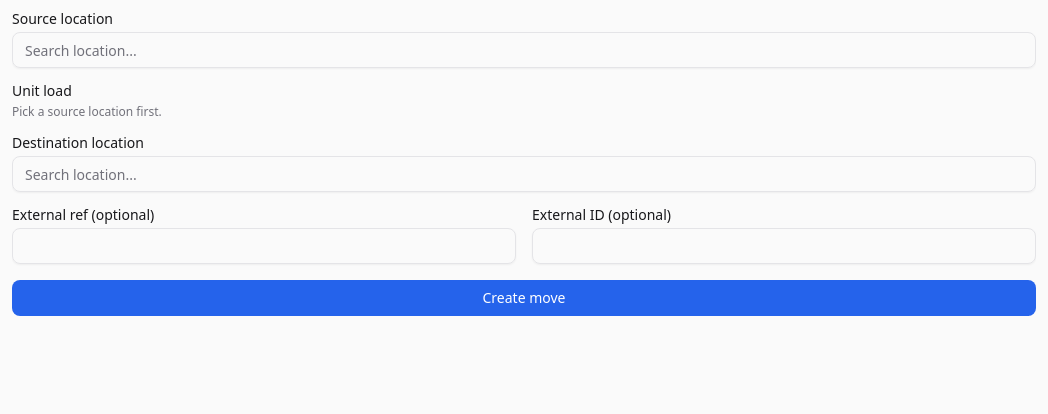
Test: ManualMoveForm › validates that source, unit load, and destination are all required
Click the button with test id "manual-move-submit" at (524, 298), box [12,280,1036,316]
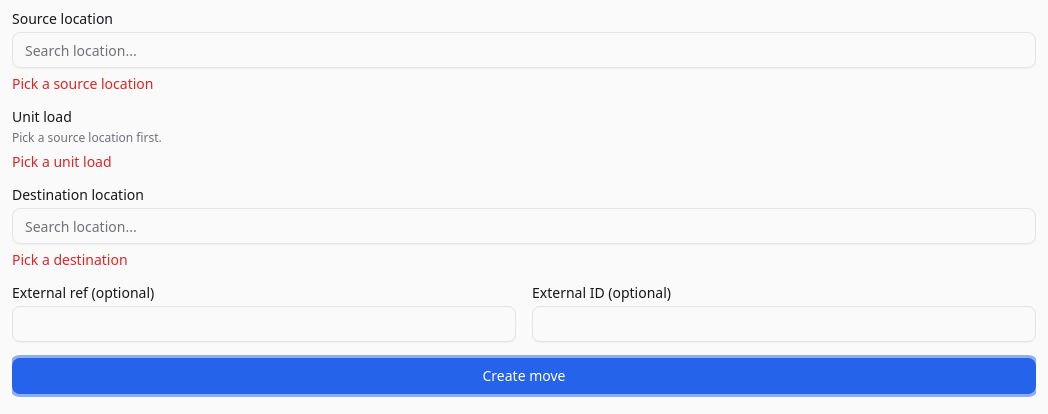
Now the text "Pick a source location" is shown, box [12,74,154,93]
